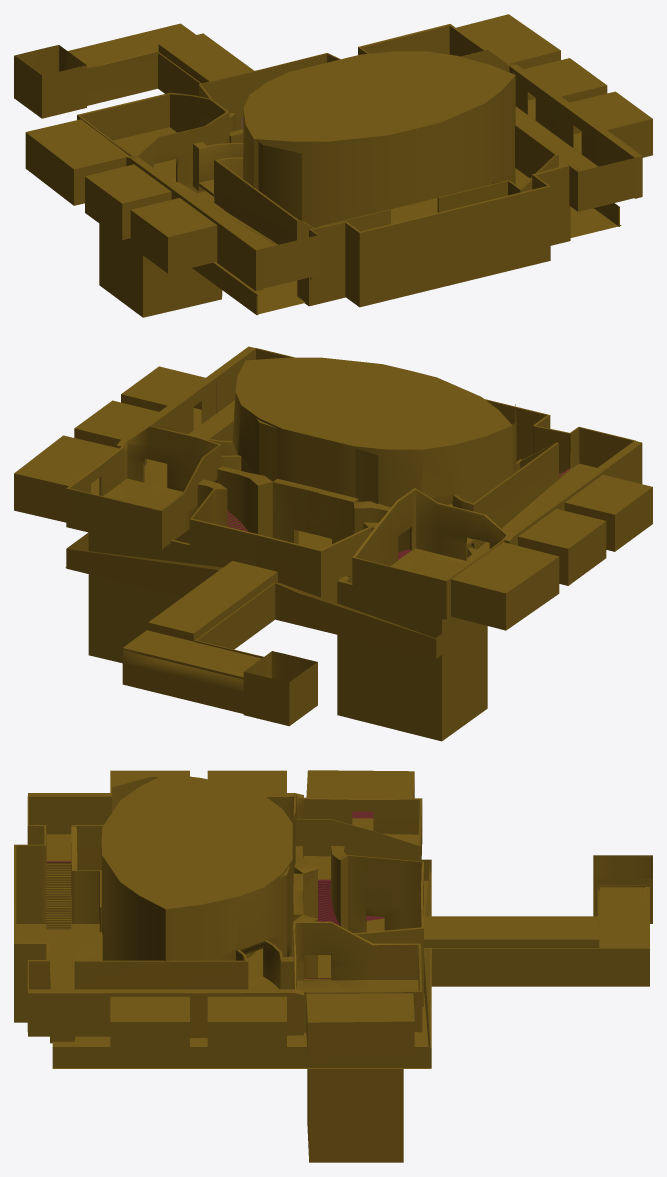
Rendered from GeneralStructure.fbx.
3 views of the same model, one above another, from view 1: azimuth 30°, elevation 25°; view 2: azimuth 150°, elevation 25°; view 3: azimuth 270°, elevation 25° (orthographic). The views are drawn at different scales.
Visible parts, largest first — view 1: PolyShape__2_, Cube__8__Clone_, Cube, PolyShape__2__Clone_, Cube__8_, PolyShape__1__Clone_, Cube__1_, Cube__2_, Cube__3_, Plane, Cube__4_, Stairs (+1 smaller); view 2: Cube__8__Clone_, Cube__8_, PolyShape__2_, PolyShape__1__Clone_, PolyShape__2__Clone_, PolyShape__1_, Cube__4_, Cube__1_, Cube__3_, Cube__2_, Cube; view 3: Cube__8_, PolyShape__2__Clone_, Cube__8__Clone_, PolyShape__2_, Cube__3_, PolyShape__1_, Cube, PolyShape__1__Clone_, Cube__4_, Cube__1_, Plane, Cube__2_ (+3 smaller).
Boxes of the visible parts, <box> form: PolyShape__2_: <box>192,52,513,244</box>; Cube__8__Clone_: <box>25,92,318,291</box>; Cube: <box>298,155,569,307</box>; PolyShape__2__Clone_: <box>246,51,558,220</box>; Cube__8_: <box>358,14,652,211</box>; PolyShape__1__Clone_: <box>99,69,264,317</box>; Cube__1_: <box>68,23,195,105</box>; Cube__2_: <box>14,45,86,118</box>; Cube__3_: <box>158,33,254,95</box>; Plane: <box>214,168,621,314</box>; Cube__4_: <box>192,203,619,315</box>; Stairs: <box>297,277,345,306</box>; Cube__8__Clone_: <box>352,426,652,630</box>; Cube__8_: <box>14,346,294,549</box>; PolyShape__2_: <box>238,358,558,549</box>; PolyShape__1__Clone_: <box>255,490,487,741</box>; PolyShape__2__Clone_: <box>206,357,516,557</box>; PolyShape__1_: <box>88,466,323,663</box>; Cube__4_: <box>66,532,482,658</box>; Cube__1_: <box>122,582,275,713</box>; Cube__3_: <box>147,561,277,649</box>; Cube__2_: <box>243,651,317,726</box>; Cube: <box>484,399,569,474</box>; Cube__8_: <box>27,921,422,1061</box>; PolyShape__2__Clone_: <box>75,775,295,1038</box>; Cube__8__Clone_: <box>27,770,422,879</box>; PolyShape__2_: <box>71,773,292,956</box>; Cube__3_: <box>423,916,599,986</box>; PolyShape__1_: <box>293,891,423,1162</box>; Cube: <box>14,826,102,1022</box>; PolyShape__1__Clone_: <box>292,846,423,933</box>; Cube__4_: <box>52,859,431,1068</box>; Cube__1_: <box>424,885,649,986</box>; Plane: <box>52,880,430,1068</box>; Cube__2_: <box>593,855,652,923</box>.
Size of the model in its own units: 4785 by 2045 by 5119.
